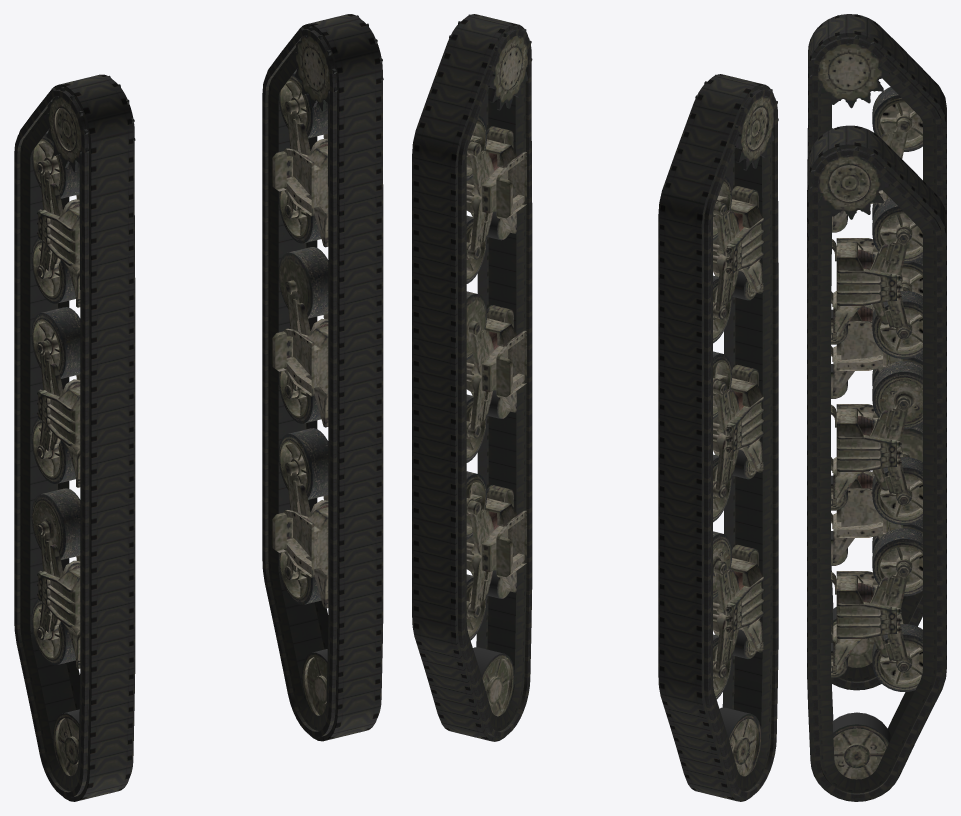
File: Chassis.glb
3 views of the same model, side by side, from view 1: azimuth 30°, elevation 25°; view 2: azimuth 150°, elevation 25°; view 3: azimuth 270°, elevation 25° (orthographic). The views are drawn at different scales.
Parts seen in each view (by area): view 1: set_0_group_0, set_1_group_0, set_3_group_0, set_2_group_0; view 2: set_0_group_0, set_1_group_0, set_3_group_0, set_2_group_0; view 3: set_3_group_0, set_1_group_0, set_2_group_0, set_0_group_0.
Boxes of the visible parts, bbox=[...] form: set_0_group_0: bbox=[14, 74, 135, 801]; set_1_group_0: bbox=[262, 14, 383, 741]; set_3_group_0: bbox=[272, 15, 383, 715]; set_2_group_0: bbox=[31, 75, 135, 776]; set_0_group_0: bbox=[658, 74, 778, 801]; set_1_group_0: bbox=[412, 14, 532, 741]; set_3_group_0: bbox=[443, 14, 532, 716]; set_2_group_0: bbox=[689, 74, 778, 776]; set_3_group_0: bbox=[809, 126, 922, 779]; set_1_group_0: bbox=[807, 125, 946, 801]; set_2_group_0: bbox=[809, 14, 922, 667]; set_0_group_0: bbox=[807, 14, 946, 690].
Bounding box in the file's own units: 2.53 × 5.76 × 1.11.
Materials: 4 (4 with a texture image).
